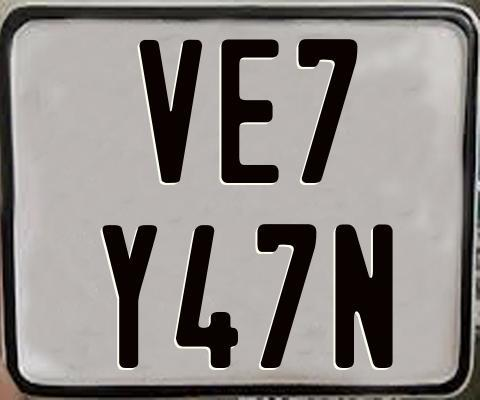4: (176, 222, 242, 368)
7: (298, 39, 360, 186), (254, 224, 314, 374)
E: (219, 38, 278, 182)
N: (332, 223, 390, 372)
V: (138, 37, 204, 180)
Y: (102, 225, 163, 369)
